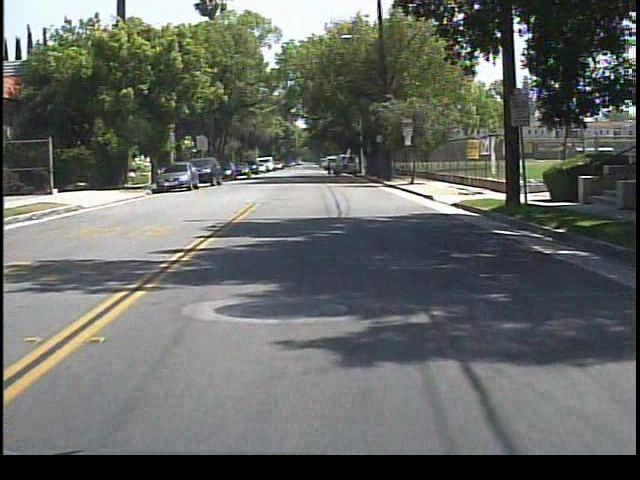person: (321, 155, 337, 181)
